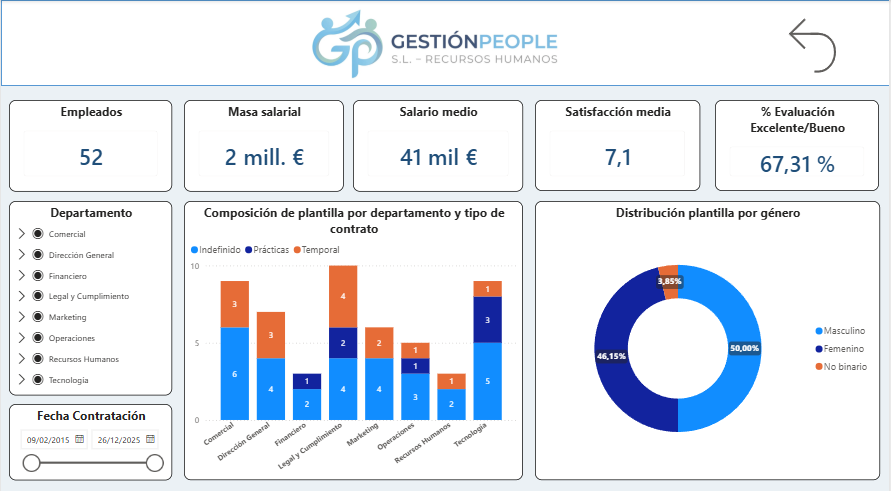

This screenshot's page, from the dashboard's own definition file:
{"tool":"powerbi","page":{"name":"Resumen ejecutivo","canvas":[1280,720],"ordinal":9},"visuals":[{"type":"cardVisual","title":"Empleados","fields":{"Data":["Count(Empleados_final.IDEmpleado)"]},"box":[11.7,143.3,235,131.7],"z":0},{"type":"cardVisual","title":"Masa salarial","fields":{"Data":["Sum(Empleados_final.Salario)"]},"box":[263.3,143.3,230,131.7],"z":1000},{"type":"cardVisual","title":"Salario medio","fields":{"Data":["Avg(Empleados_final.Salario)"]},"box":[506.7,143.3,245,131.7],"z":2000},{"type":"cardVisual","title":"Satisfacción media","fields":{"Data":["Avg(Empleados_final.Satisfaccion)"]},"box":[769,144,237.6,131],"z":3000},{"type":"cardVisual","title":" % Evaluación Excelente/Bueno","fields":{"Data":["Empleados_final.% Evaluacion Excelente/Bueno"]},"box":[1028.2,144,236.2,131],"z":4000},{"type":"donutChart","title":"Distribución plantilla por género","fields":{"Category":["Empleados_final.Genero"],"Y":["CountNonNull(Empleados_final.Genero)"]},"box":[768.3,290,496.7,401.7],"z":5000},{"type":"listSlicer","title":"Departamento","fields":{"Values":["Departamentos_final.NombreDepartamento","Empleados_final.FechaContratacion.Variación.Jerarquía de fechas.Año"]},"box":[11.7,290,235,280],"z":6000},{"type":"shape","box":[0,0,1280.2,123.8],"z":7000},{"type":"image","box":[0,10.1,1251.4,103.7],"z":8000},{"type":"columnChart","title":"Composición de plantilla por departamento y tipo de contrato","fields":{"Category":["Departamentos_final.NombreDepartamento","Empleados_final.FechaContratacion.Variación.Jerarquía de fechas.Año","Empleados_final.FechaContratacion.Variación.Jerarquía de fechas.Trimestre","Empleados_final.FechaContratacion.Variación.Jerarquía de fechas.Mes","Empleados_final.FechaContratacion.Variación.Jerarquía de fechas.Día"],"Y":["CountNonNull(Empleados_final.TipoContrato)"],"Series":["Empleados_final.TipoContrato"]},"box":[263.3,290,488.3,401.7],"z":9000},{"type":"slicer","title":"Fecha Contratación","fields":{"Values":["Empleados_final.FechaContratacion"]},"box":[11.7,581.7,235,110],"z":10000},{"type":"actionButton","box":[1155.7,12.9,95.7,95.7],"z":11000}]}

Visuals, with their boxes in screenshot pixels (x1, y1, x2, y2), scaled from the page's 1280x720 canvas onto the 891x491 screenshot:
"Empleados" cardVisual: bbox(8, 98, 172, 188)
"Masa salarial" cardVisual: bbox(183, 98, 343, 188)
"Salario medio" cardVisual: bbox(353, 98, 523, 188)
"Satisfacción media" cardVisual: bbox(535, 98, 701, 188)
" % Evaluación Excelente/Bueno" cardVisual: bbox(716, 98, 880, 188)
"Distribución plantilla por género" donutChart: bbox(535, 198, 881, 472)
"Departamento" listSlicer: bbox(8, 198, 172, 389)
shape: bbox(0, 0, 890, 84)
image: bbox(0, 7, 871, 78)
"Composición de plantilla por departamento y tipo de contrato" columnChart: bbox(183, 198, 523, 472)
"Fecha Contratación" slicer: bbox(8, 397, 172, 472)
actionButton: bbox(804, 9, 871, 74)
